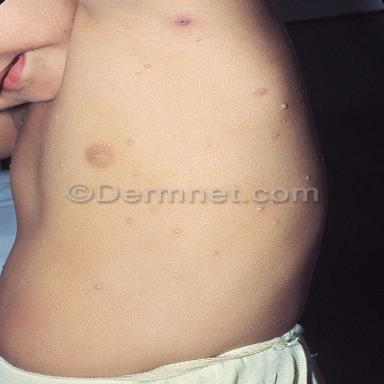Molluscum-Contagiosum: (195, 37, 201, 42), (211, 251, 218, 255), (127, 140, 132, 145), (96, 285, 102, 289), (127, 219, 133, 223), (257, 207, 263, 211), (144, 65, 151, 68), (175, 229, 180, 233), (136, 72, 142, 75), (273, 222, 278, 225)
